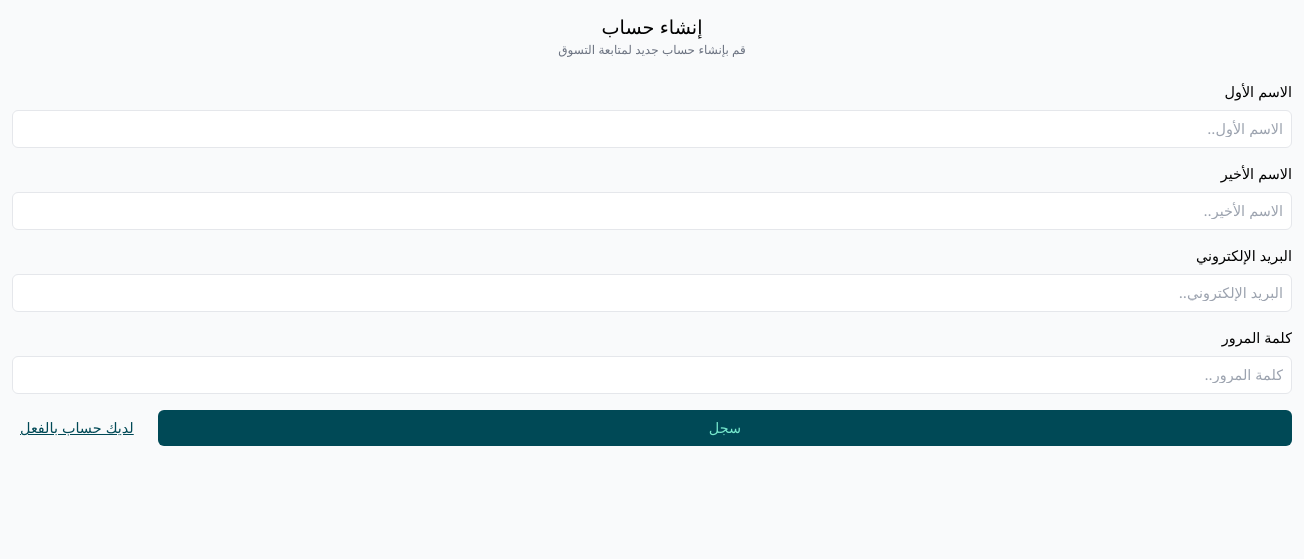
Test case: Sign In Form Validation › displays error messages with invalid data
Type "Jhn" into the field labelled "الاسم الأول" at {"x": 652, "y": 129}, box [12, 110, 1292, 148]
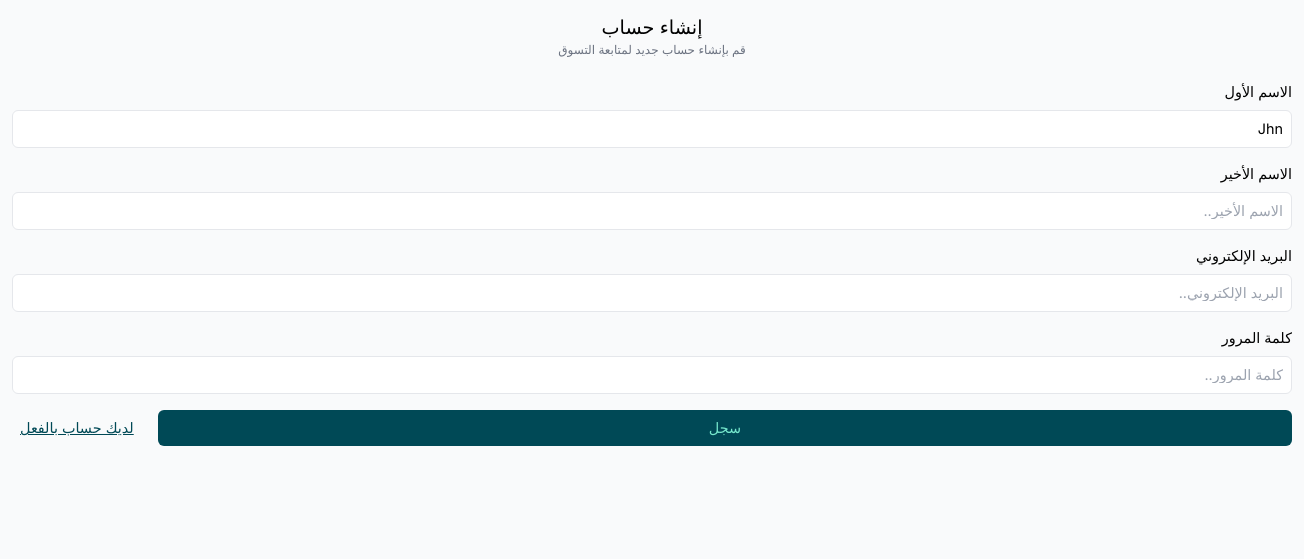
Type "Do" into the field labelled "الاسم الأخير" at {"x": 652, "y": 211}, box [12, 192, 1292, 230]
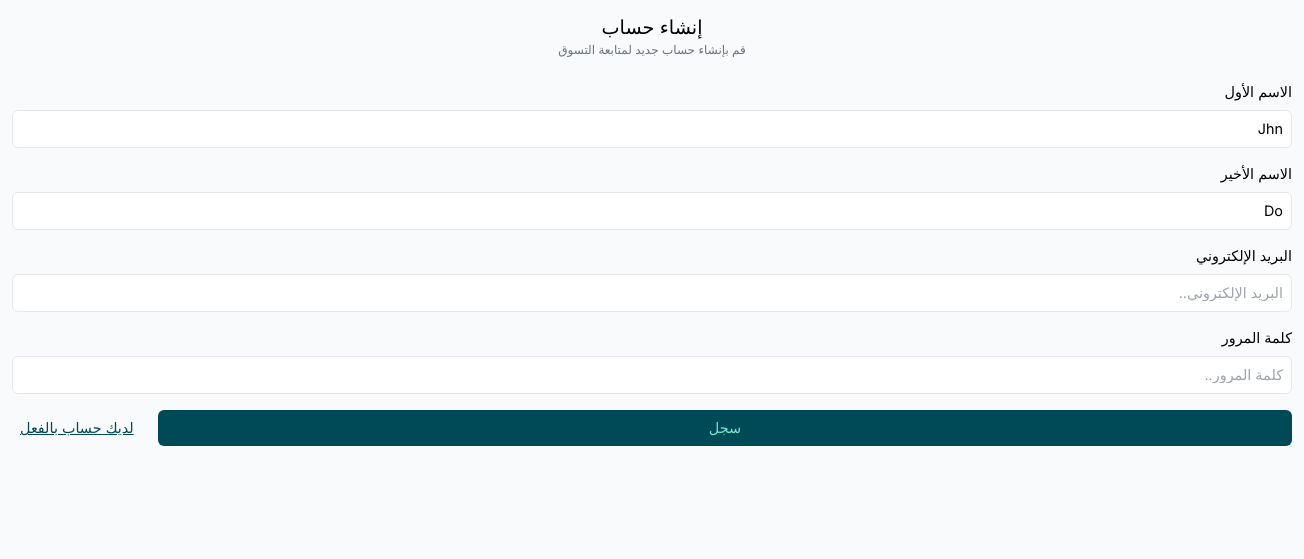
Type "john.doe" into the field labelled "البريد الإلكتروني" at {"x": 652, "y": 293}, box [12, 274, 1292, 312]
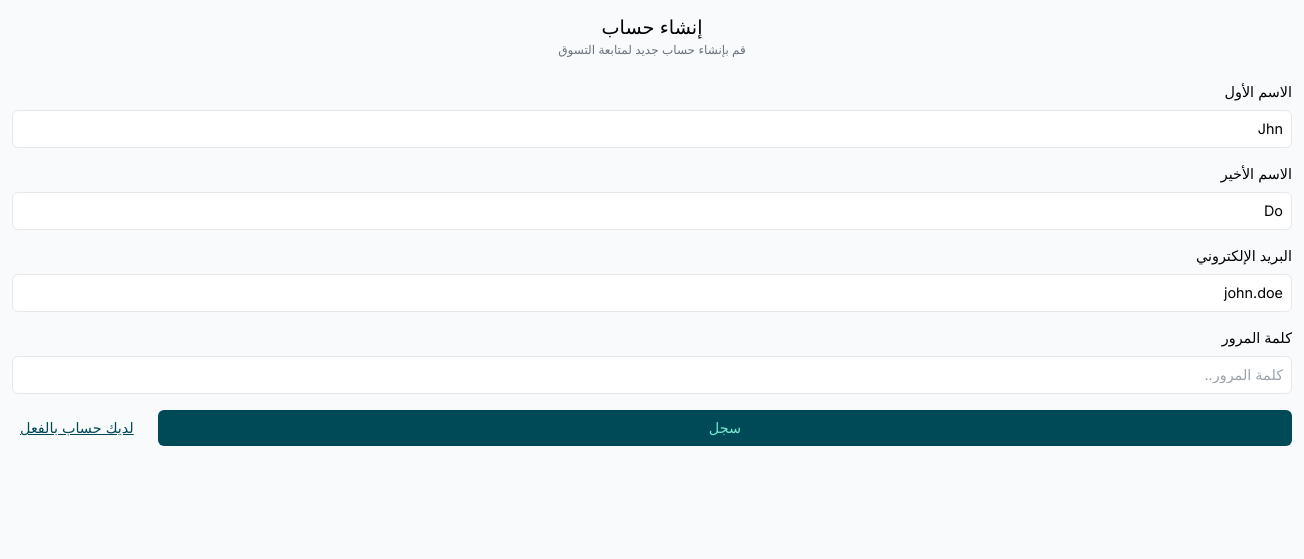
Type "pass" into the password field labelled "كلمة المرور" at {"x": 652, "y": 375}, box [12, 356, 1292, 394]
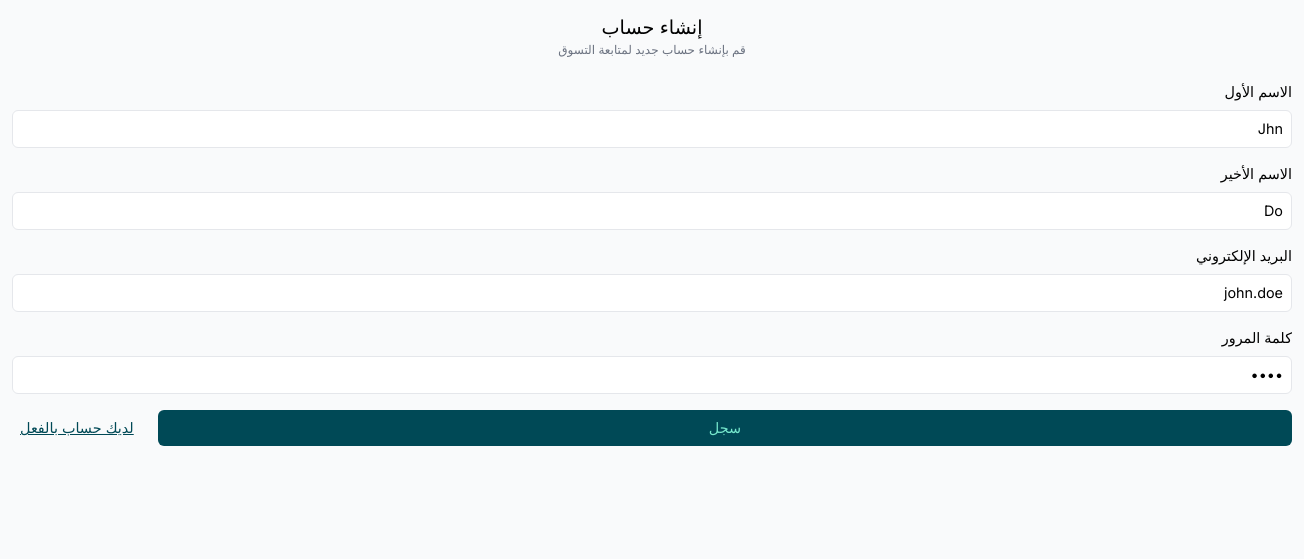
Click the button "سجل" at {"x": 725, "y": 428}, box [158, 410, 1292, 446]
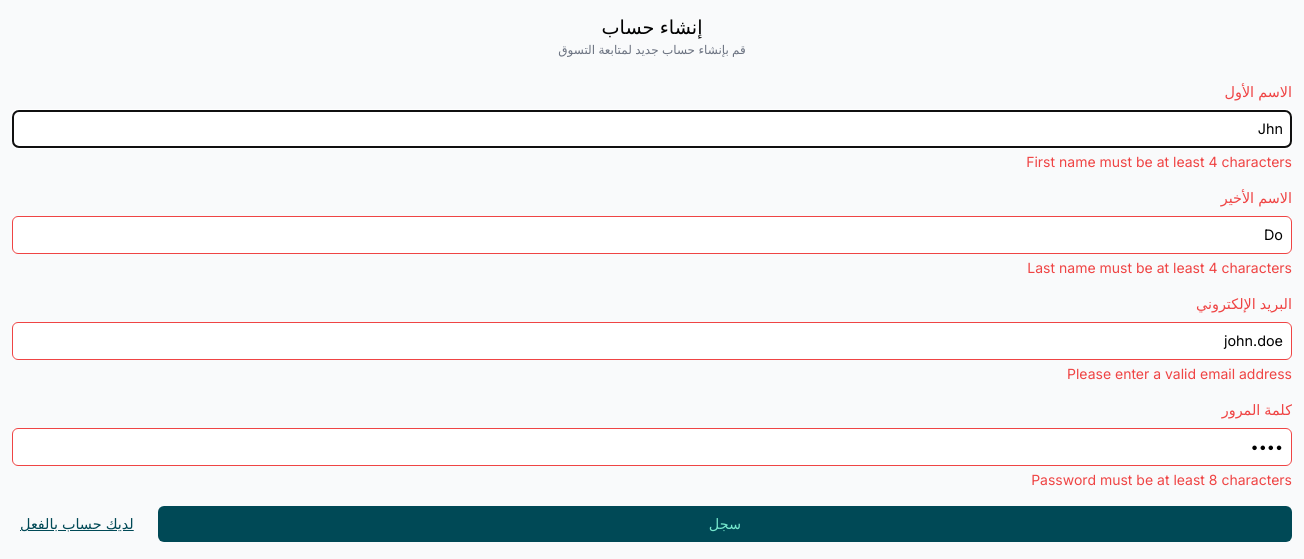
Check: the text "Please enter a valid email address" is shown, box [1067, 365, 1292, 382]
Check: the text "Last name must be at least 4 characters" is shown, box [1027, 259, 1292, 276]
Check: the text "First name must be at least 4 characters" is shown, box [1026, 153, 1292, 170]
